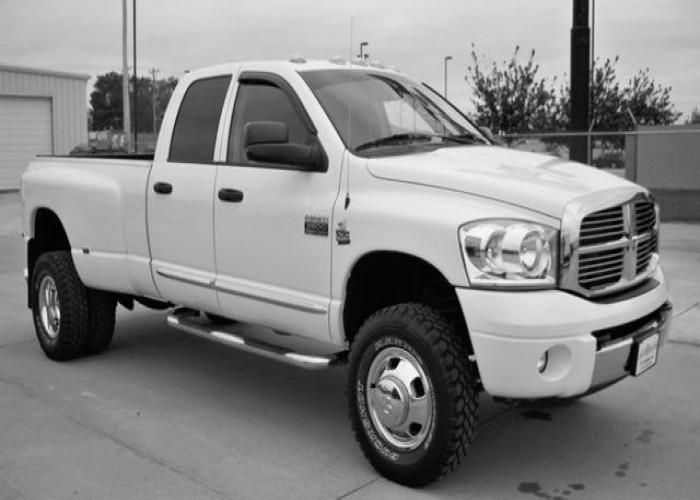car: (24, 61, 672, 487)
